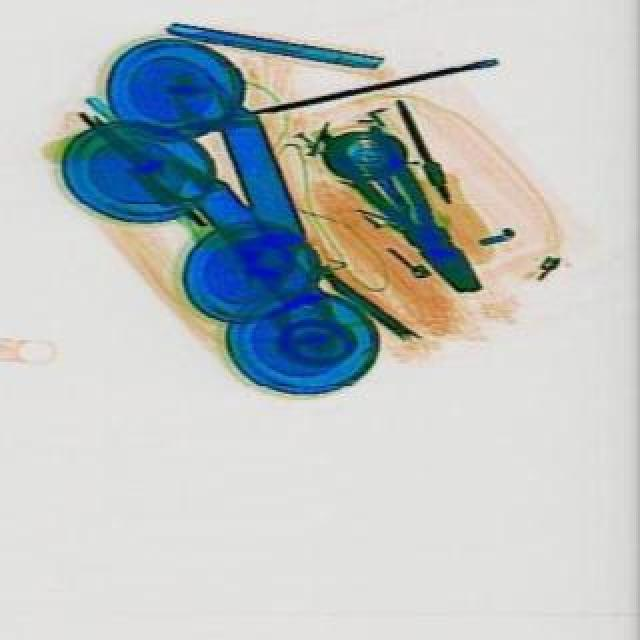wrench: (328, 116, 498, 314)
